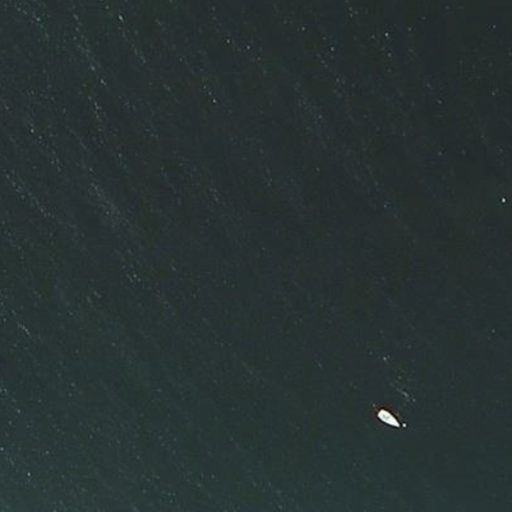ship: (373, 406, 407, 432)
